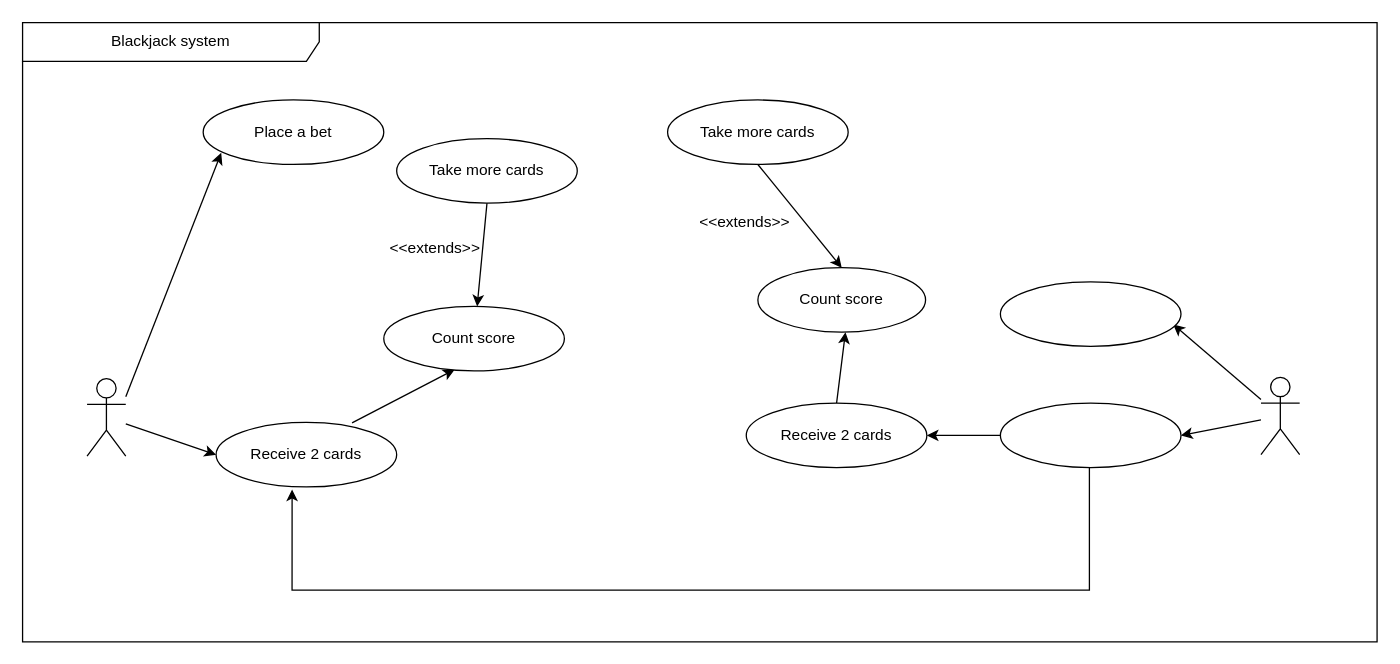
This 1400x664 diagram has some shape labels left out. The shapes that lost their labels are listed below. From the top down, each one's centre as x and y in pixels, then its label:
At [1090,313]: "Shuffle cards".
At [106,416]: "Players".
At [1090,435]: "Give cards".
At [1280,415]: "Dealer".
